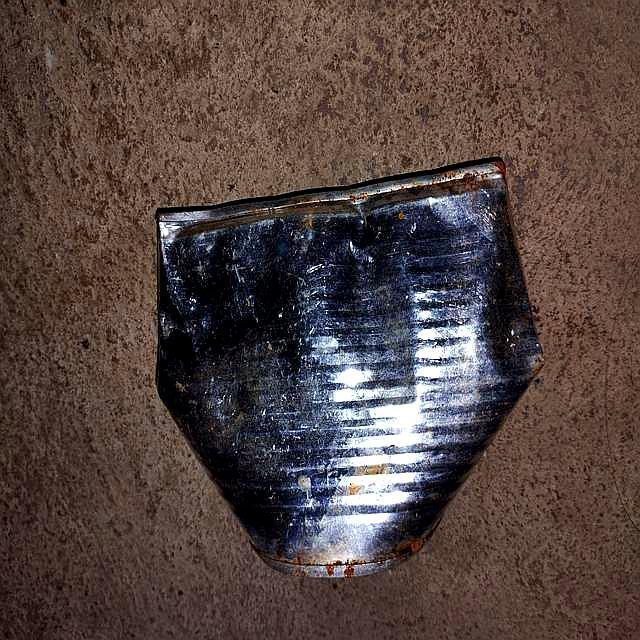Non-biodegradable: (153, 155, 547, 581)
